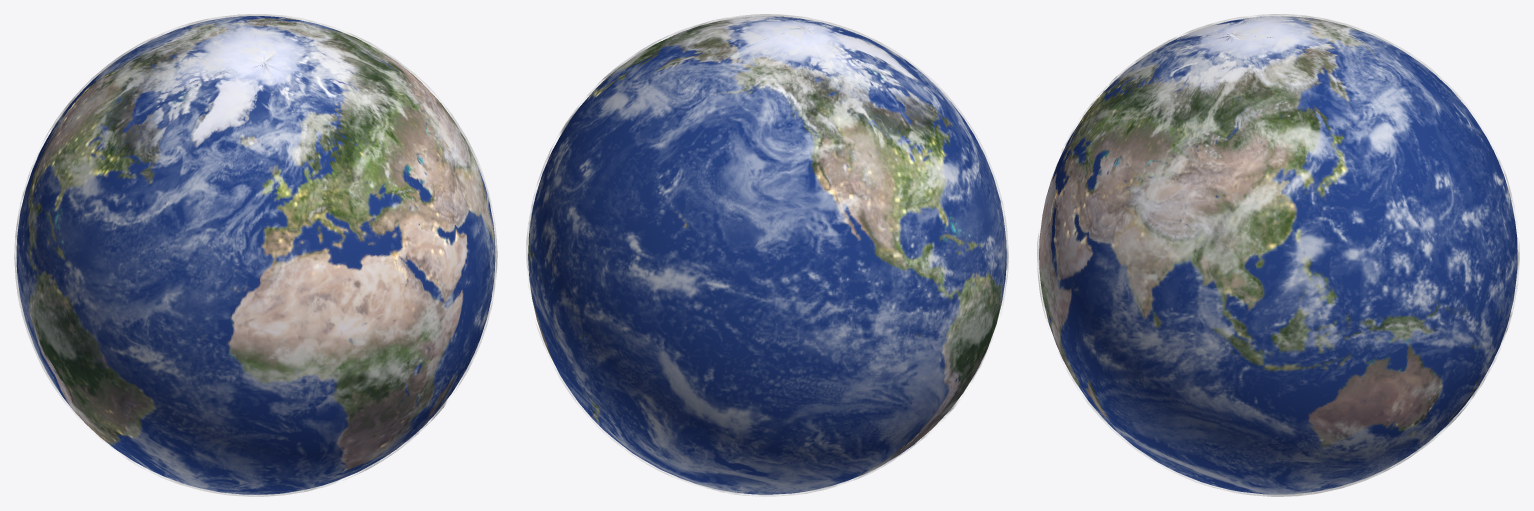
The model's file is earth.glb.
3 renders of one model, left to right at view 1: azimuth 30°, elevation 25°; view 2: azimuth 150°, elevation 25°; view 3: azimuth 270°, elevation 25°, orthographic.
Parts seen in each view (by area): view 1: Earth, Clouds; view 2: Earth, Clouds; view 3: Earth, Clouds.
Part boxes in pixels (x1,y1,x2,y2): Earth: (16, 16, 495, 494); Clouds: (14, 14, 497, 496); Earth: (528, 16, 1006, 494); Clouds: (526, 14, 1008, 496); Earth: (1039, 16, 1517, 494); Clouds: (1037, 14, 1519, 496).
Bounding box in the file's own units: 2.72 × 2.72 × 2.72.
2 materials, 2 textured.
